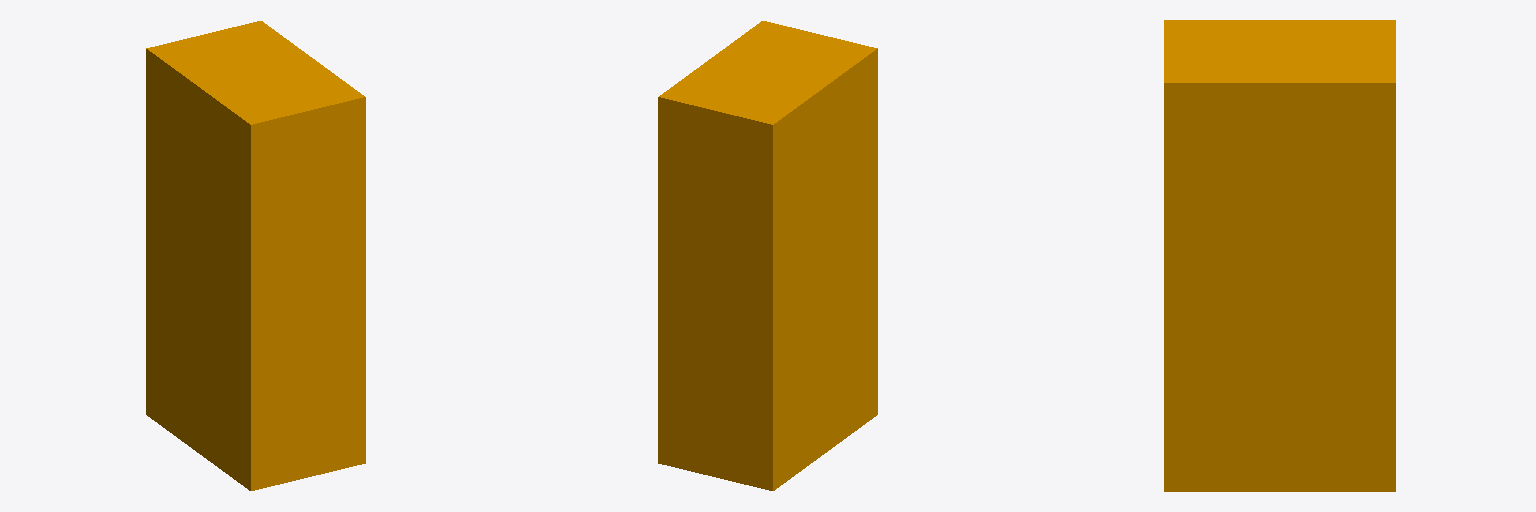
robot.urdf — small_box-robot:
<?xml version="1.0"?>
<robot name="small_box-robot"
       xmlns:xi="http://www.w3.org/2001/XInclude"
       xmlns:gazebo="http://playerstage.sourceforge.net/gazebo/xmlschema/#gz"
       xmlns:model="http://playerstage.sourceforge.net/gazebo/xmlschema/#model"
       xmlns:sensor="http://playerstage.sourceforge.net/gazebo/xmlschema/#sensor"
       xmlns:body="http://playerstage.sourceforge.net/gazebo/xmlschema/#body"
       xmlns:geom="http://playerstage.sourceforge.net/gazebo/xmlschema/#geom"
       xmlns:joint="http://playerstage.sourceforge.net/gazebo/xmlschema/#joint"
       xmlns:interface="http://playerstage.sourceforge.net/gazebo/xmlschema/#interface"
       xmlns:rendering="http://playerstage.sourceforge.net/gazebo/xmlschema/#rendering"
       xmlns:renderable="http://playerstage.sourceforge.net/gazebo/xmlschema/#renderable"
       xmlns:controller="http://playerstage.sourceforge.net/gazebo/xmlschema/#controller"
       xmlns:physics="http://playerstage.sourceforge.net/gazebo/xmlschema/#physics">
  <gazebo>
    <static>false</static>
  </gazebo>
  <link name="nil_link">
    <visual>
      <origin xyz="0 0 0"/>
      <geometry>
        <box size="0.20 0.315 0.61" />
      </geometry>
    </visual>
    <collision>
      <origin xyz="0 0 0"/>
      <geometry>
        <box size="0.20 0.315 0.61" />
      </geometry>
    </collision>
    <inertial>
      <mass value="7.5" />
      <origin xyz="0.0 0.0 0.5" rpy="0 0 0"/>
      <inertia ixx="10.0" ixy="0" ixz="0" iyy="5.7411" iyz="0" izz="0.788"/>
    </inertial>
  </link>
  <gazebo reference="nil_link">
    <kp>1.000000e+06</kp>
    <kd>100.0</kd>
    <mu1>50.0</mu1>
    <mu2>50.0</mu2>
    <fdir1>1.0 0.0 0.0</fdir1>
  </gazebo>
  <gazebo reference="nil_link">
    <material>Gazebo/Blue</material>
  </gazebo>
  <gazebo>
    <plugin filename="libAddForcePlugin2.so" name="simple_box_add_force_plugin2">
      <objname>obj4</objname>
      <linkname1>LARM_LINK6</linkname1>
      <linkname2>RARM_LINK6</linkname2>
    </plugin>
    <plugin filename="libGetVelPlugin.so" name="simple_box_get_vel_plugin">
      <objname>obj4</objname>
      <linkname>nil_link</linkname>
    </plugin>
    <plugin filename="libSetVelPlugin.so" name="simple_box_set_vel_plugin">
      <objname>obj4</objname>
      <linkname>nil_link</linkname>
    </plugin>
  </gazebo>
</robot>

--- What the picture shows (computed from the rendered views, not written in the file) ---
The picture shows the robot from 3 angles, left to right: view 1: azimuth 30°, elevation 25°; view 2: azimuth 150°, elevation 25°; view 3: azimuth 270°, elevation 25°; orthographic projection.
Robot: small_box-robot — 1 links, 0 joints (none); root link nil_link; default pose: all joints at 0.
Visible links, largest first — view 1: nil_link; view 2: nil_link; view 3: nil_link.
Boxes of the visible links, x1,y1,x2,y2 form: nil_link: (146,21,365,490); nil_link: (658,21,877,490); nil_link: (1164,20,1395,491).
Bounding box of the posed robot: 0.2 × 0.315 × 0.61 m (x, y, z).
Geometry: primitives only (box / cylinder / sphere), no mesh files.